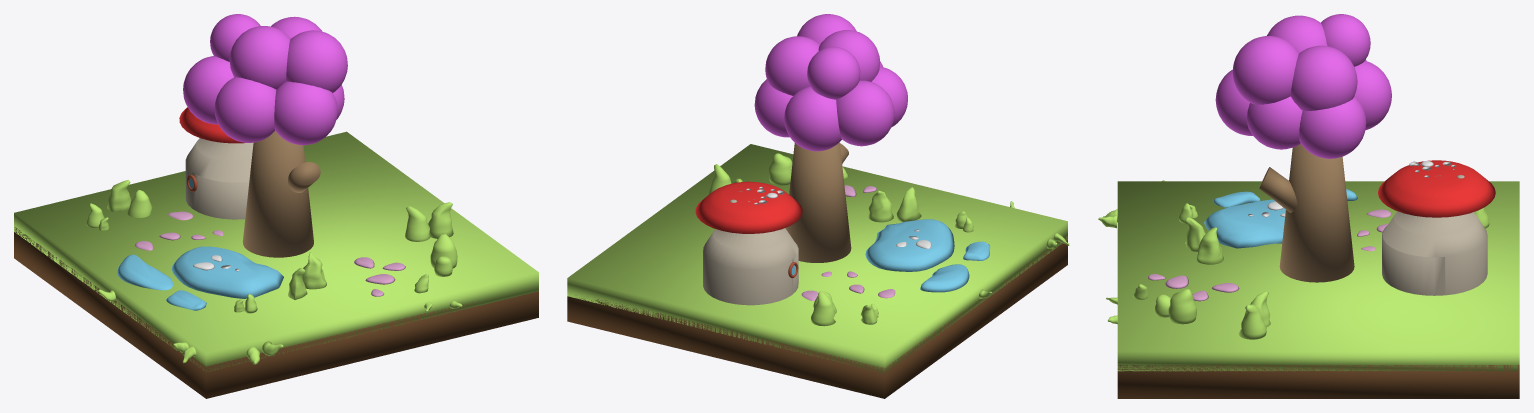
File: Tree_Scene.glb
3 renders of one model, left to right at view 1: azimuth 30°, elevation 25°; view 2: azimuth 150°, elevation 25°; view 3: azimuth 270°, elevation 25°, orthographic. The views are drawn at different scales.
Visible parts, largest first — view 1: Cube.001, Cube, Cylinder, Circle.004, Circle.017, Sphere.004, Sphere.006, Sphere.011, Sphere.008, Sphere.005, Sphere.007, Circle.021 (+10 smaller); view 2: Cube.001, Cube, Circle.004, Cylinder, Circle.007, Circle.017, Sphere.005, Sphere.001, Sphere.010, Sphere.007, Sphere.008, Sphere.002 (+8 smaller); view 3: Cube.001, Cube, Cylinder, Circle.004, Circle.007, Sphere.011, Sphere.010, Sphere.002, Circle.017, Sphere.003, Sphere.001, Sphere.007 (+8 smaller).
Boxes of the visible parts, <box> form: Cube.001: <box>14,131,538,371</box>; Cube: <box>14,227,538,398</box>; Cylinder: <box>242,131,313,257</box>; Circle.004: <box>185,138,253,219</box>; Circle.017: <box>171,246,283,298</box>; Sphere.004: <box>274,81,337,145</box>; Sphere.006: <box>214,77,276,142</box>; Sphere.011: <box>286,30,347,92</box>; Sphere.008: <box>229,26,290,89</box>; Sphere.005: <box>183,56,233,124</box>; Sphere.007: <box>210,14,260,61</box>; Circle.021: <box>117,254,173,290</box>; Cube.001: <box>567,144,1067,373</box>; Cube: <box>567,234,1067,398</box>; Circle.004: <box>703,228,798,305</box>; Cylinder: <box>785,142,851,262</box>; Circle.007: <box>695,181,802,233</box>; Circle.017: <box>865,219,954,271</box>; Sphere.005: <box>836,80,894,146</box>; Sphere.001: <box>784,86,841,151</box>; Sphere.010: <box>765,36,819,95</box>; Sphere.007: <box>807,46,860,99</box>; Sphere.008: <box>818,30,880,81</box>; Sphere.002: <box>754,79,792,137</box>; Cube.001: <box>1117,181,1519,371</box>; Cube: <box>1117,365,1519,398</box>; Cylinder: <box>1279,144,1354,282</box>; Circle.004: <box>1382,211,1487,295</box>; Circle.007: <box>1378,160,1495,217</box>; Sphere.011: <box>1232,36,1298,104</box>; Sphere.010: <box>1290,45,1357,110</box>; Sphere.002: <box>1299,96,1366,158</box>; Circle.017: <box>1204,199,1285,248</box>; Sphere.003: <box>1247,96,1302,149</box>; Sphere.001: <box>1354,61,1391,130</box>; Sphere.007: <box>1321,14,1370,66</box>.
Size of what is drawn, in the model's own units: 2.08 by 1.56 by 2.1.
